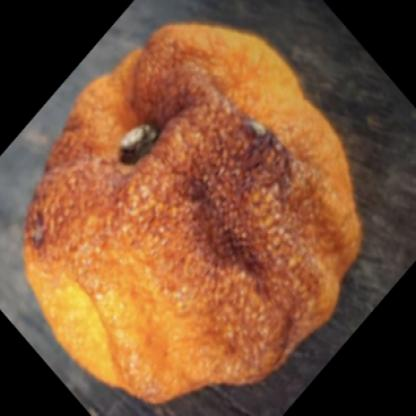rotten: (25, 23, 363, 411)
